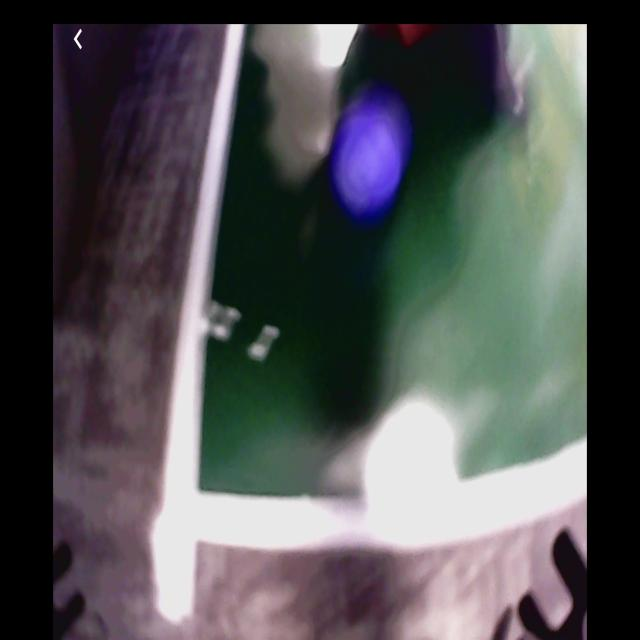ball: (337, 112, 406, 218)
